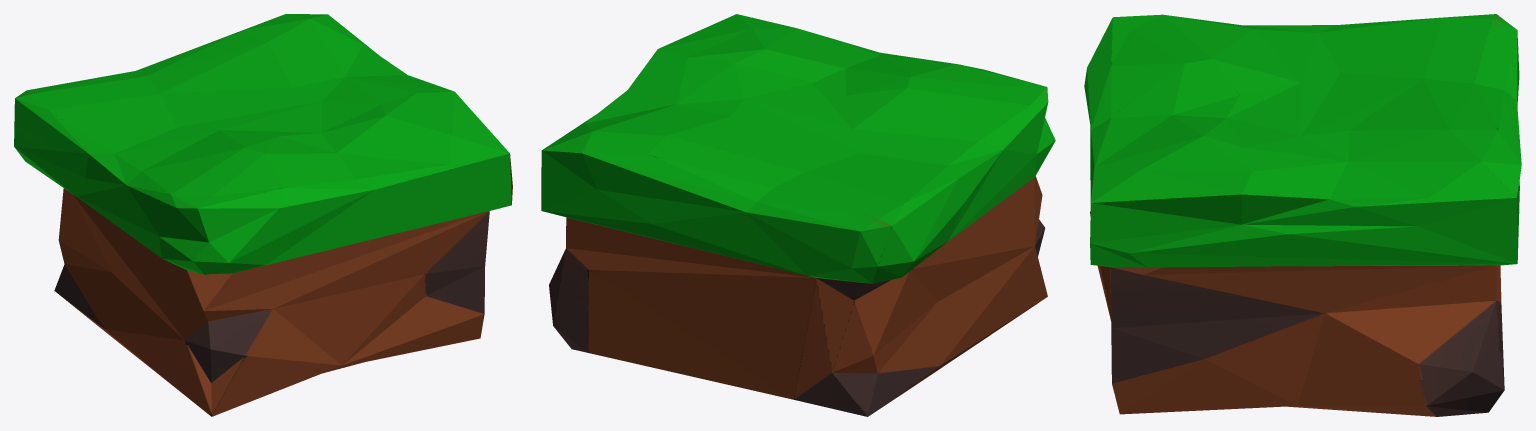
Rendered from ForestBlock.fbx.
3 renders of one model, left to right at view 1: azimuth 30°, elevation 25°; view 2: azimuth 150°, elevation 25°; view 3: azimuth 270°, elevation 25°, orthographic. The views are drawn at different scales.
Visible parts, largest first — view 1: Cube; view 2: Cube; view 3: Cube.
Boxes of the visible parts, box(x1,y1,x2,y2) form: Cube: box(14, 14, 512, 416); Cube: box(541, 14, 1055, 416); Cube: box(1084, 14, 1521, 416).
Bounding box in the file's own units: 222 × 129 × 205.
